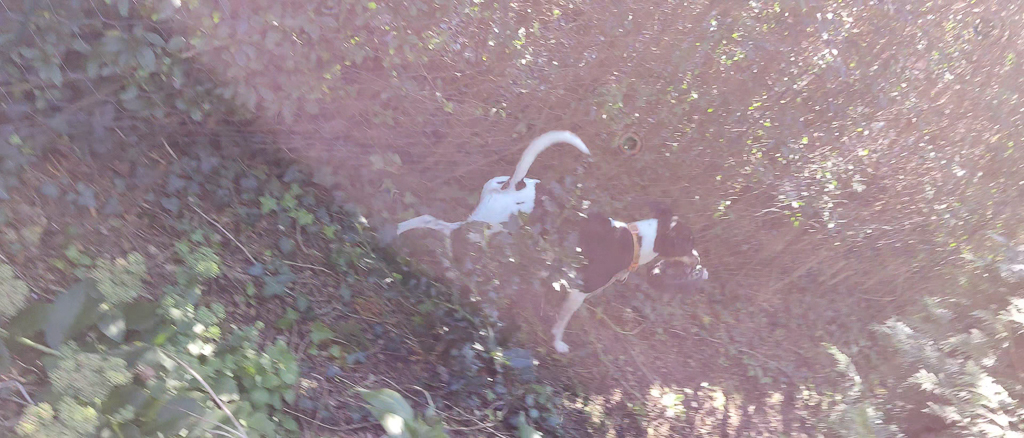Dog: (364, 121, 716, 358)
